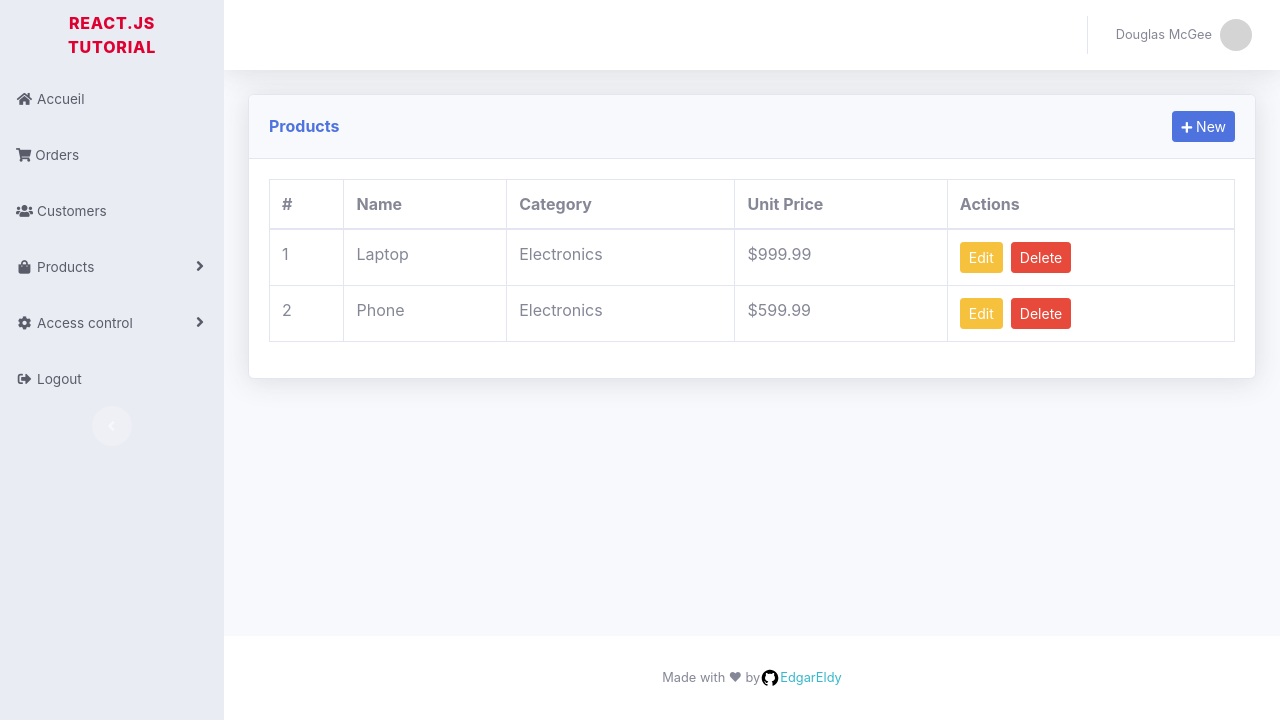
Products CRUD › updates a product
Click the button "Edit" in the row of "Laptop". click: (982, 258)
box: [960,242,1003,273]
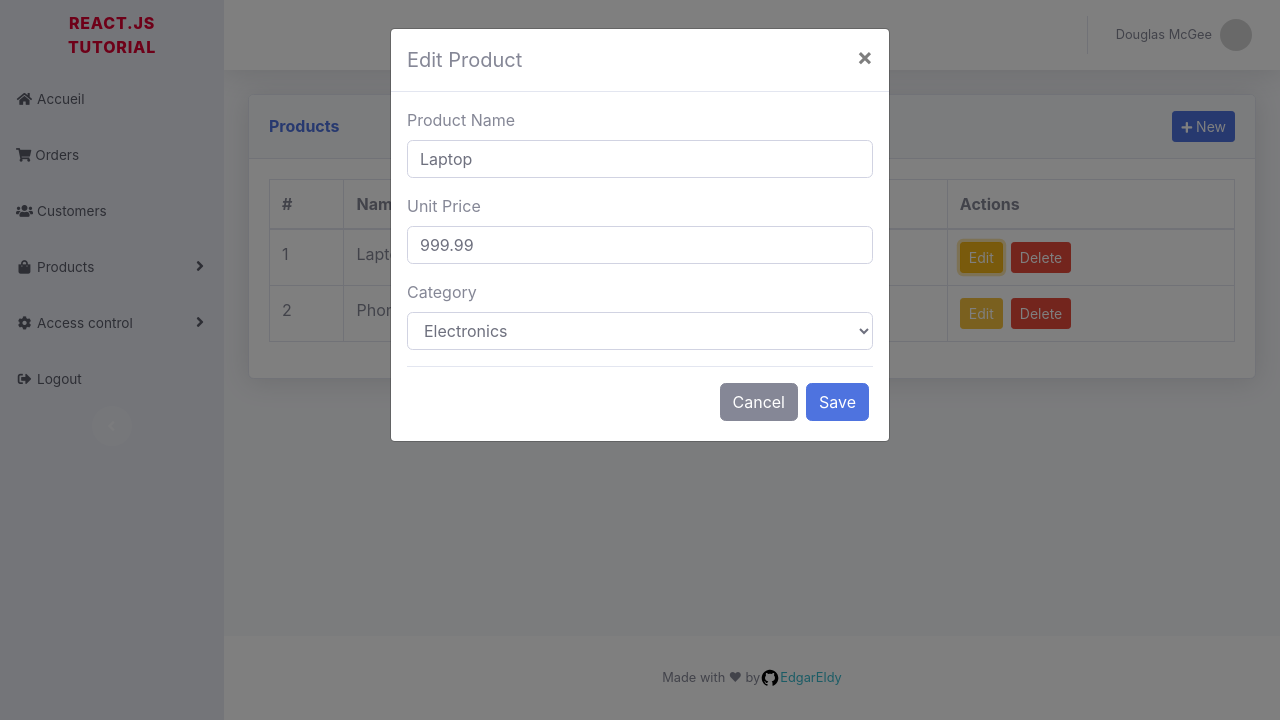
Replace the text in the field labelled "Product Name" with "Laptop Pro". click: (640, 159)
box: [407,140,873,178]
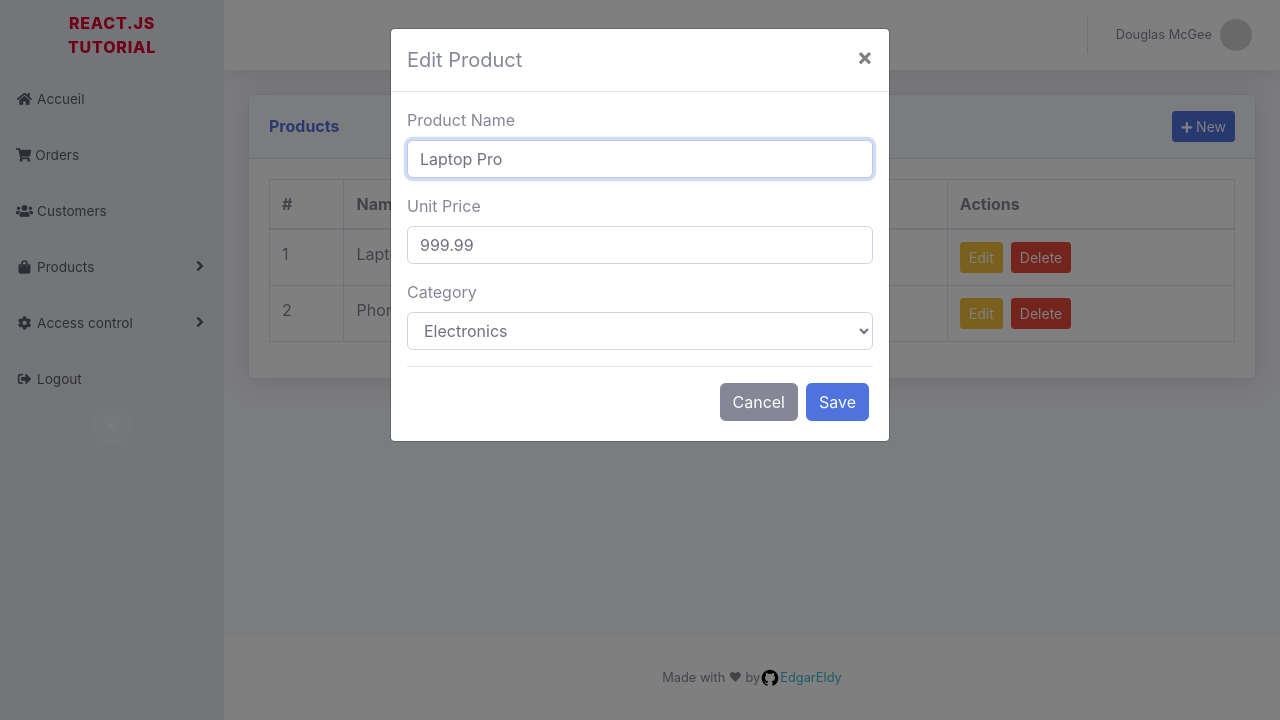
Replace the text in the number field with id "unitPrice" with "1099.99". click: (640, 245)
box: [407,226,873,264]
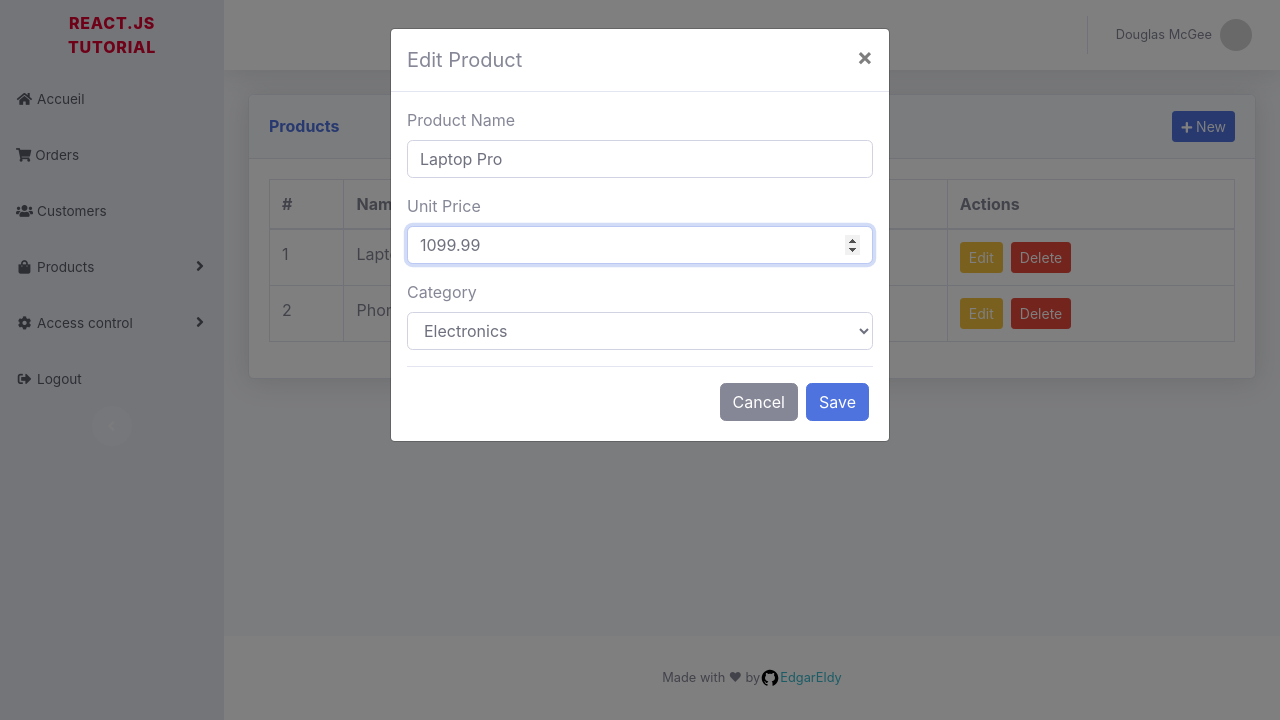
Click the button "Save". click: (838, 402)
box: [806,383,869,421]
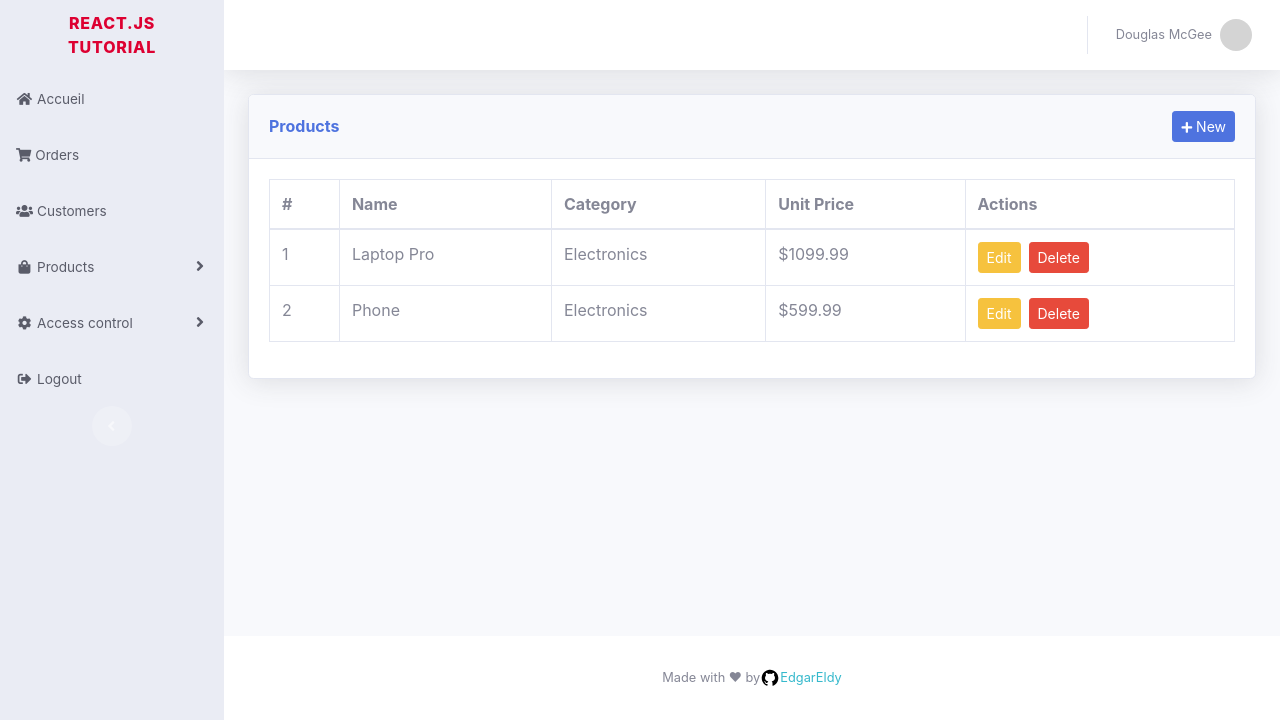
expect the text "Laptop Pro" is shown: met, box [339,229,552,286]
